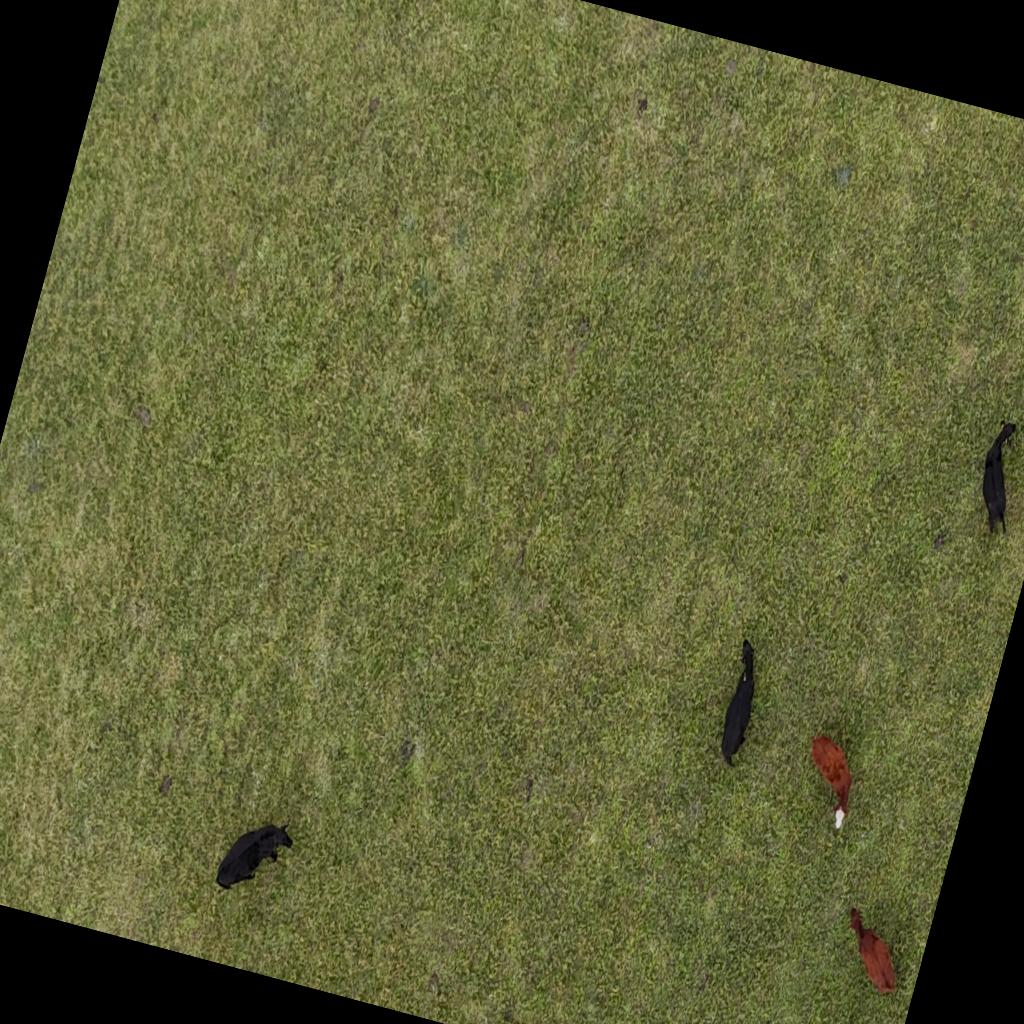cow: (208, 806, 300, 910), (785, 726, 870, 836), (706, 636, 772, 772), (959, 411, 1024, 544), (828, 904, 914, 998)
